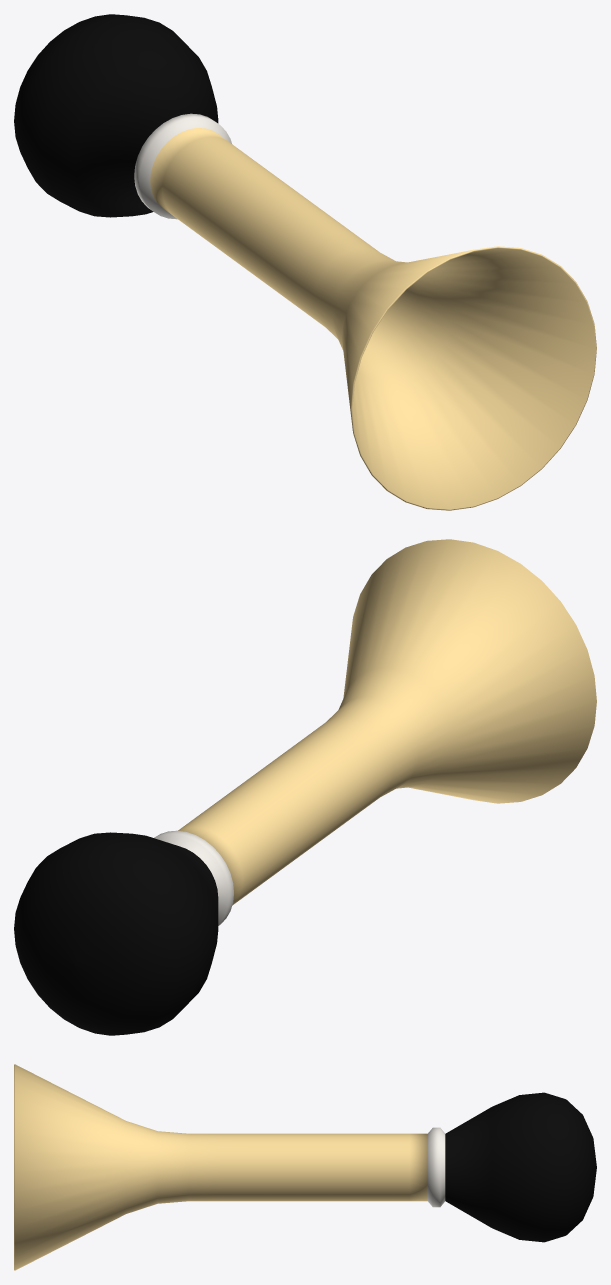
File: Clown_Horn(v3).fbx
3 renders of one model, top to bottom at view 1: azimuth 30°, elevation 25°; view 2: azimuth 150°, elevation 25°; view 3: azimuth 270°, elevation 25°, orthographic. The views are drawn at different scales.
Visible parts, largest first — view 1: Cylinder; view 2: Cylinder; view 3: Cylinder.
Boxes of the visible parts, x1,y1,x2,y2 form: Cylinder: (14, 14, 596, 510); Cylinder: (14, 539, 596, 1035); Cylinder: (14, 1064, 596, 1270).
Bounding box in the file's own units: 614 × 614 × 1727.
